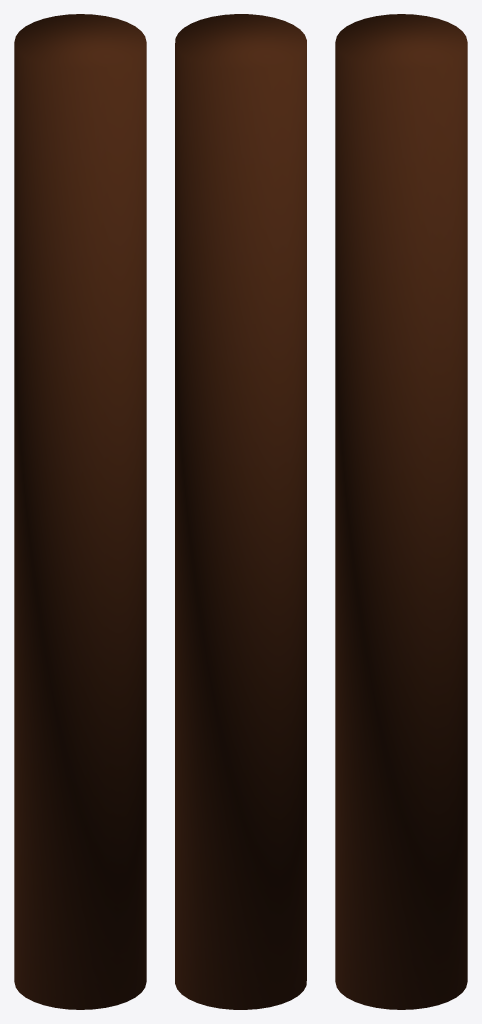
Rendered from wooden-ladder-rung.obj.
3 renders of one model, left to right at view 1: azimuth 90°, elevation 25°; view 2: azimuth 150°, elevation 25°; view 3: azimuth 270°, elevation 25°, orthographic.
Visible parts, largest first — view 1: wooden-ladder-rung; view 2: wooden-ladder-rung; view 3: wooden-ladder-rung.
Boxes of the visible parts, <box> form: wooden-ladder-rung: <box>14,14,146,1009</box>; wooden-ladder-rung: <box>175,14,306,1009</box>; wooden-ladder-rung: <box>335,14,467,1009</box>.
Size of the model in its own units: 0.07 by 0.55 by 0.07.
